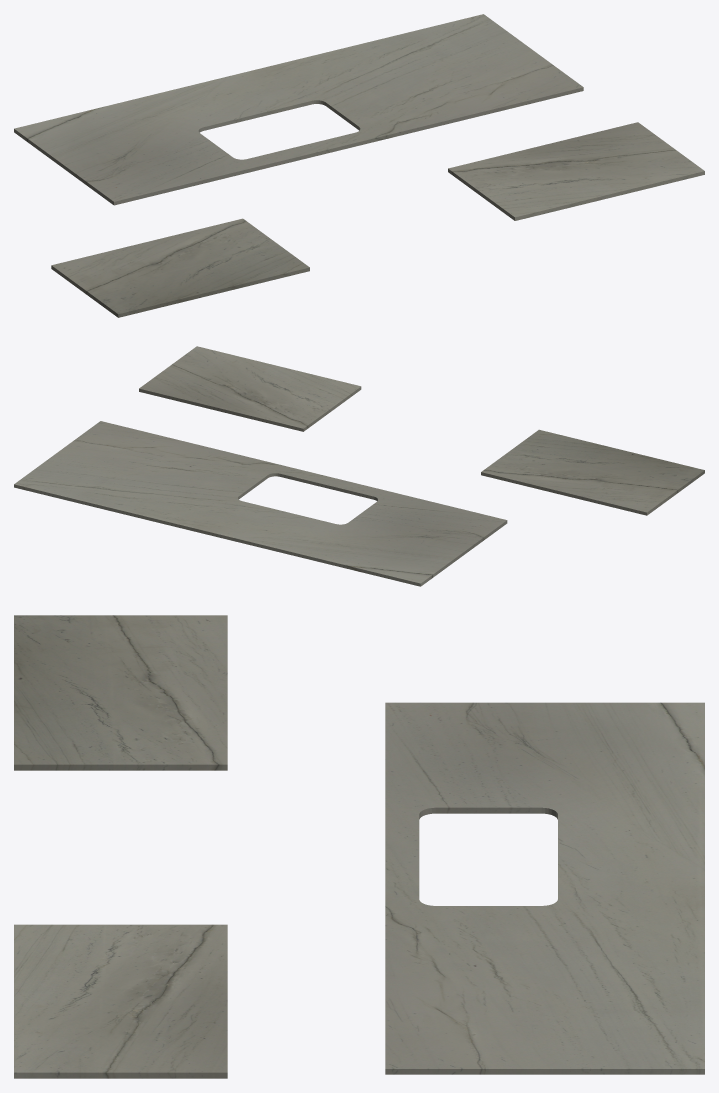
Rendered from Layout 1.glb.
The picture shows the model from 3 angles, top to bottom: view 1: azimuth 30°, elevation 25°; view 2: azimuth 150°, elevation 25°; view 3: azimuth 270°, elevation 25°; orthographic projection. The views are drawn at different scales.
Visible parts, largest first — view 1: texturedMesh (×18); view 2: texturedMesh (×18); view 3: texturedMesh (×18).
Boxes of the visible parts, x1,y1,x2,y2 form: texturedMesh (×18): [14, 14, 704, 314]; texturedMesh (×18): [14, 346, 704, 583]; texturedMesh (×18): [14, 615, 704, 1072].
Bounding box in the file's own units: 3.34 × 0.02 × 2.13.
Materials: 16 (16 with a texture image).
